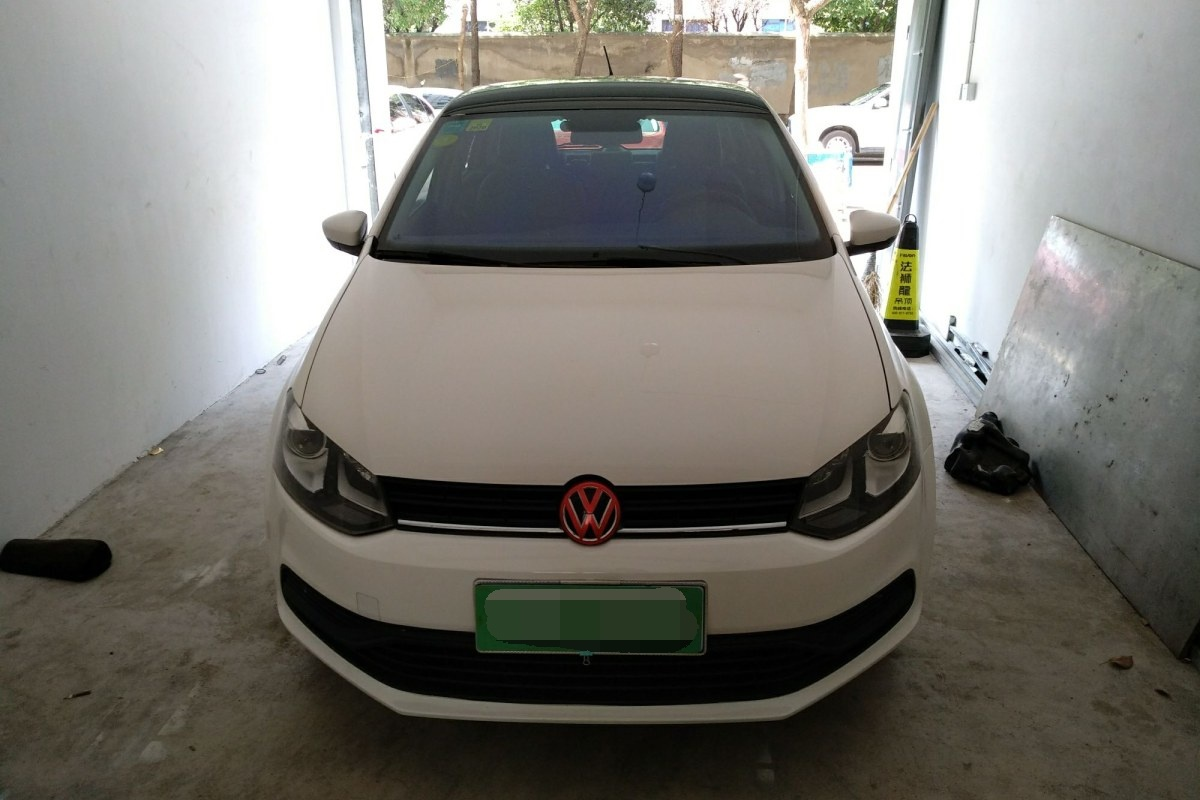family sedan: (255, 80, 924, 711)
